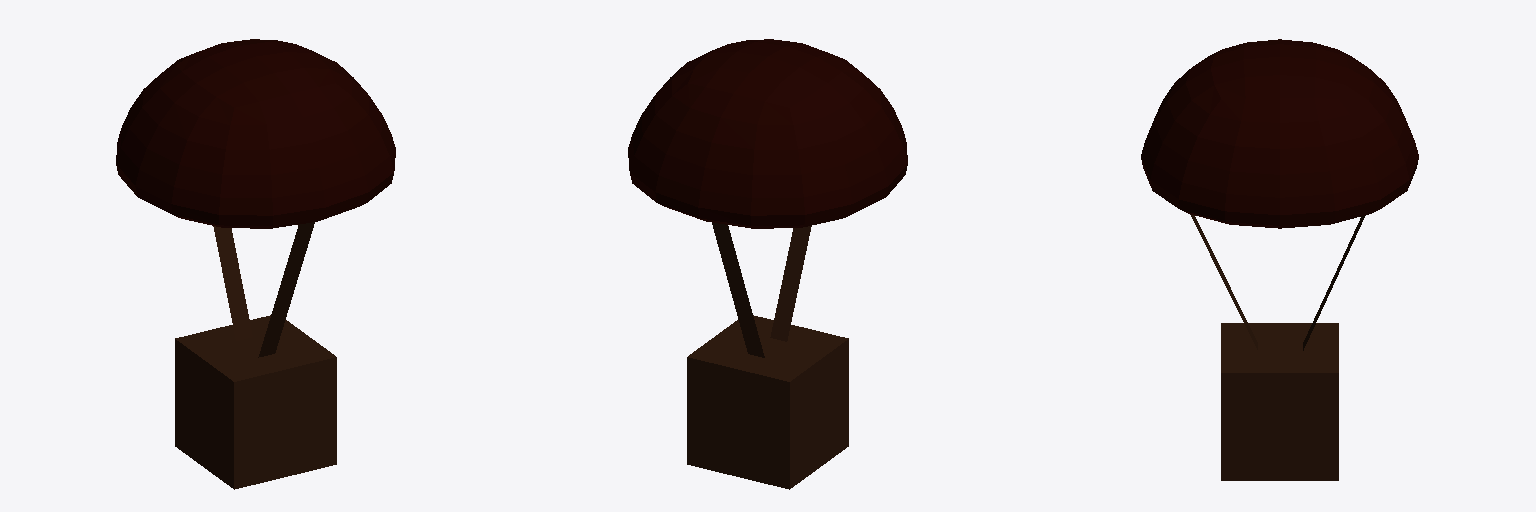
File: airdrop.obj
The picture shows the model from 3 angles: view 1: azimuth 30°, elevation 25°; view 2: azimuth 150°, elevation 25°; view 3: azimuth 270°, elevation 25°; orthographic projection.
Visible parts, largest first — view 1: Cube.001, Cube, strap_2.001_Plane, strap_1_Plane.001; view 2: Cube.001, Cube, strap_1_Plane.001, strap_2.001_Plane; view 3: Cube.001, Cube, strap_2.001_Plane.
Boxes of the visible parts, x1,y1,x2,y2 form: Cube.001: [116, 39, 395, 228]; Cube: [175, 315, 336, 489]; strap_2.001_Plane: [258, 222, 314, 357]; strap_1_Plane.001: [213, 226, 252, 340]; Cube.001: [628, 39, 907, 228]; Cube: [687, 315, 848, 489]; strap_1_Plane.001: [712, 223, 764, 357]; strap_2.001_Plane: [770, 226, 811, 341]; Cube.001: [1141, 39, 1418, 228]; Cube: [1221, 323, 1338, 480]; strap_2.001_Plane: [1190, 214, 1257, 349].
Bounding box in the file's own units: 4.69 × 7.41 × 4.69.